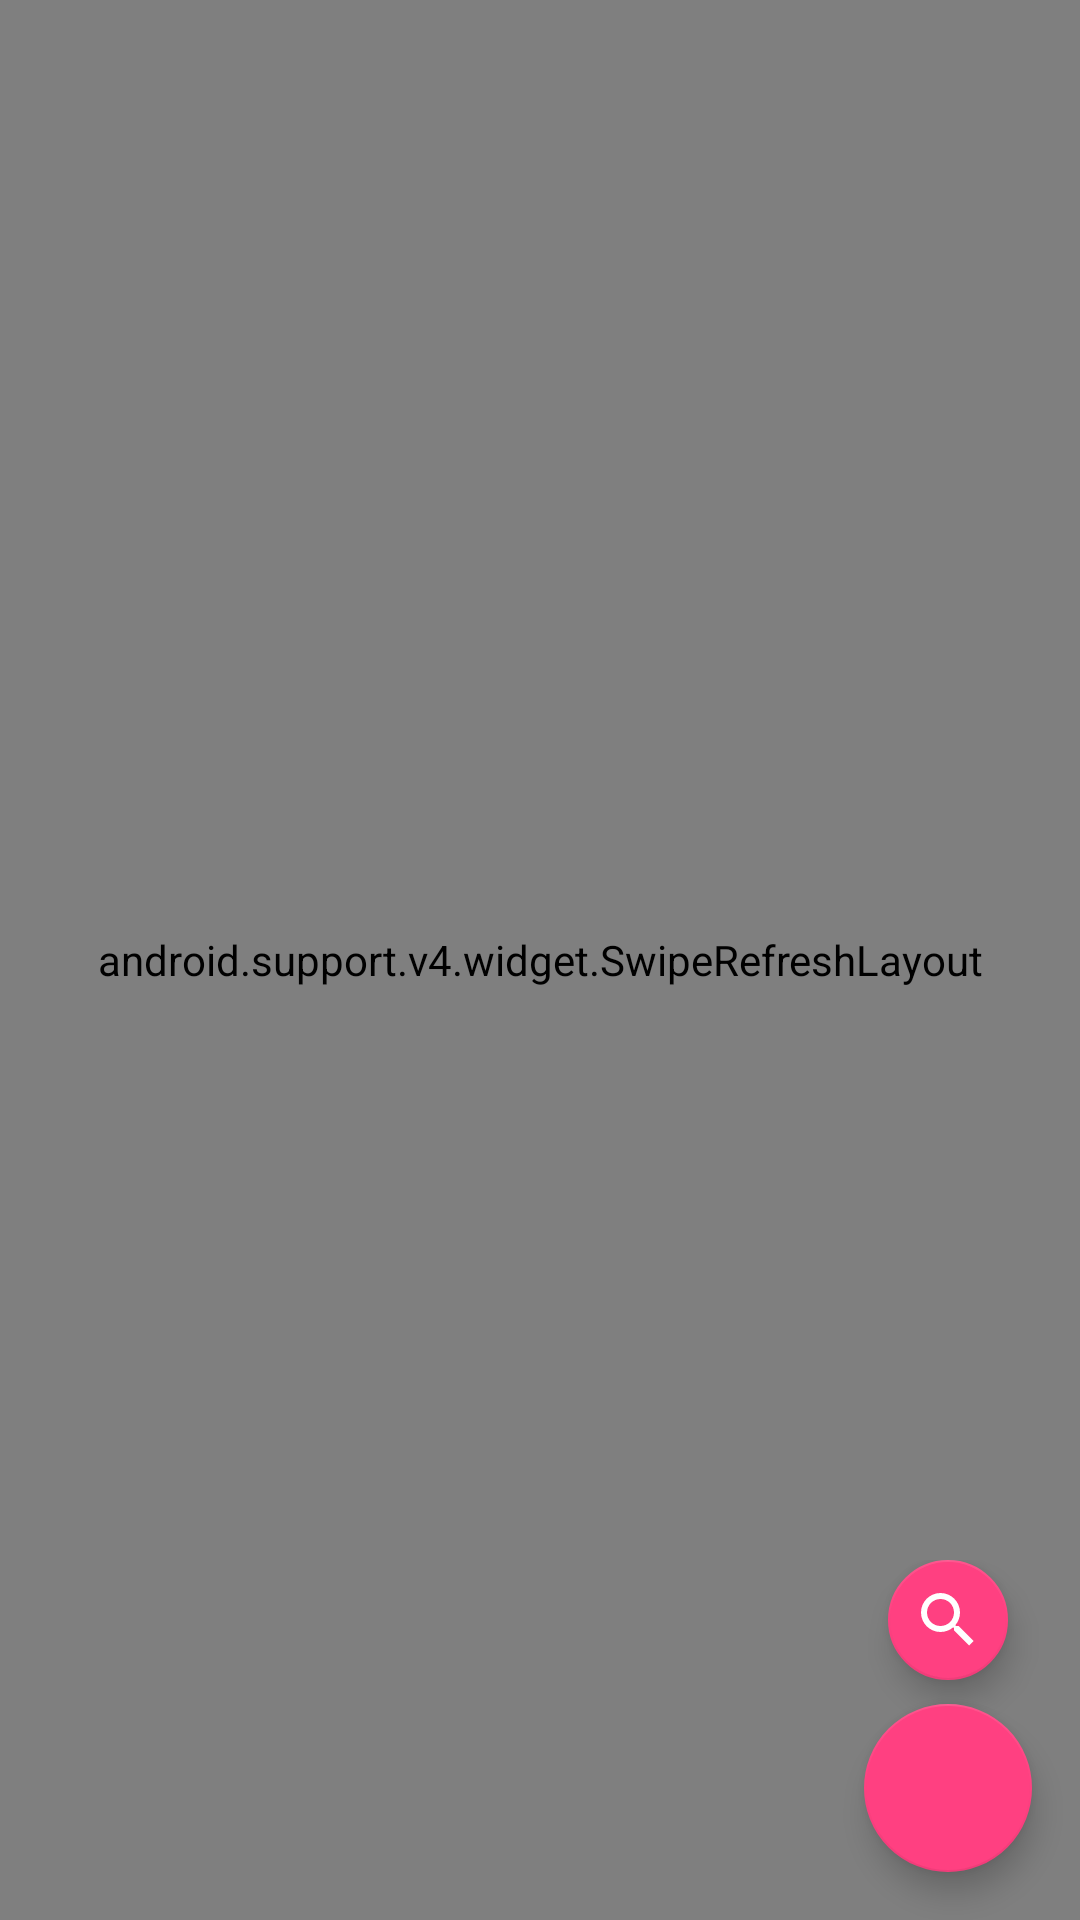

Named icons in this screenshot (1080px×1920px) and their bounding boxes, rect(x1, y1, x2, y2):
search: rect(888, 1560, 1008, 1680)
